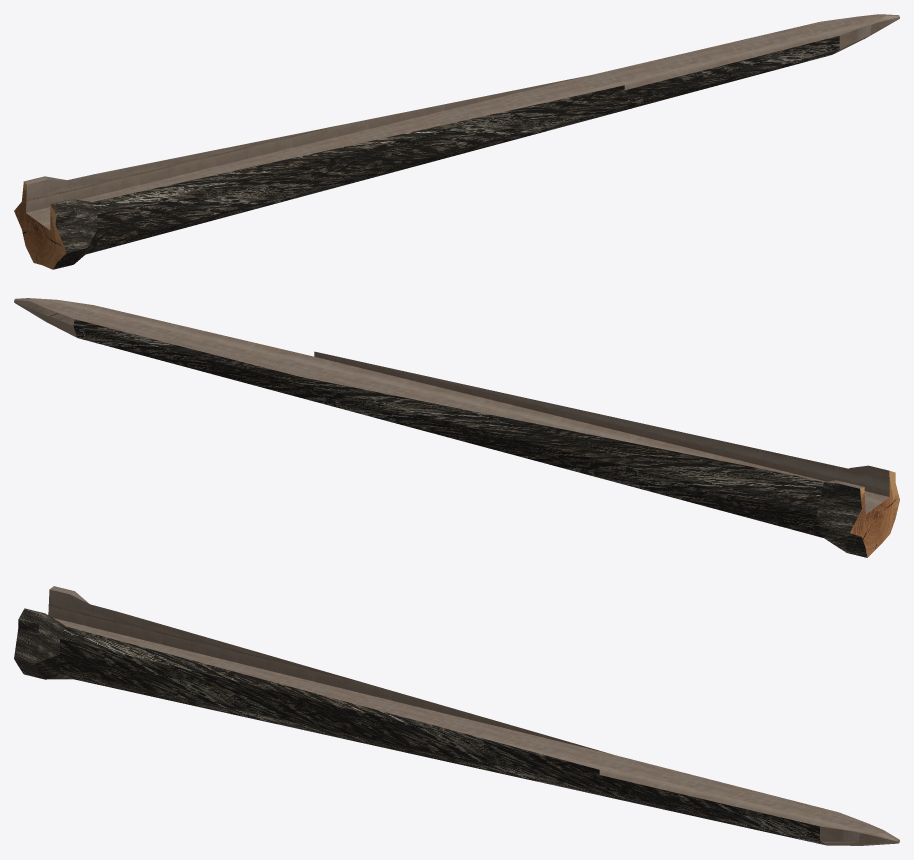
File: WoodBridge1.fbx
3 renders of one model, top to bottom at view 1: azimuth 30°, elevation 25°; view 2: azimuth 150°, elevation 25°; view 3: azimuth 330°, elevation 25°, orthographic.
Parts seen in each view (by area): view 1: WoodBridge; view 2: WoodBridge; view 3: WoodBridge.
Boxes of the visible parts, <box> form: WoodBridge: <box>14,14,899,269</box>; WoodBridge: <box>14,298,899,557</box>; WoodBridge: <box>14,586,899,845</box>.
Size of the model in its own units: 39038 by 3273 by 4034.
